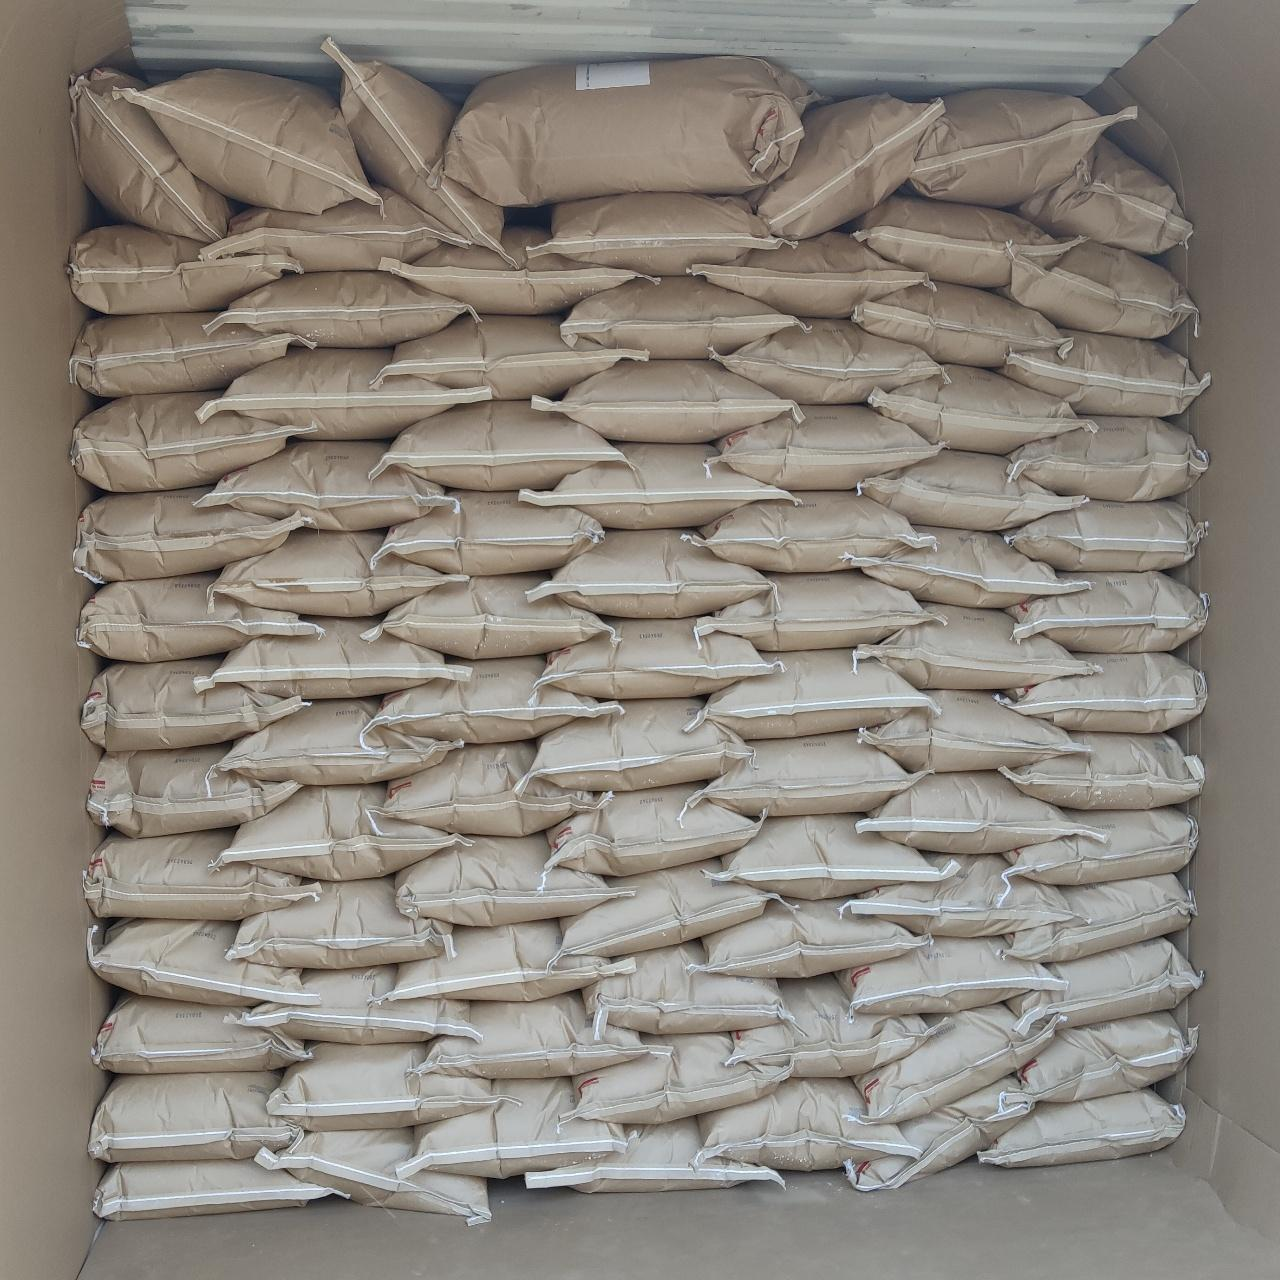sack: (442, 57, 808, 204), (128, 70, 377, 212), (328, 42, 502, 246), (72, 68, 237, 243), (753, 96, 942, 238), (196, 348, 488, 438), (908, 88, 1132, 204), (856, 1005, 1056, 1122), (216, 784, 462, 878), (552, 862, 774, 964), (522, 444, 796, 526), (377, 316, 646, 399), (382, 229, 651, 309), (254, 1130, 488, 1223), (74, 488, 304, 580), (72, 392, 292, 488), (195, 618, 459, 697), (370, 658, 620, 742), (79, 574, 318, 662), (202, 442, 450, 526), (406, 1080, 626, 1175), (728, 976, 934, 1076), (535, 360, 796, 438), (84, 830, 318, 918), (380, 744, 606, 835), (216, 532, 464, 614), (84, 658, 304, 750), (564, 1034, 788, 1124), (377, 402, 617, 486), (399, 835, 618, 926), (1017, 138, 1190, 254), (220, 697, 456, 782), (202, 192, 458, 270), (368, 574, 610, 656), (855, 195, 1070, 286), (847, 1082, 1030, 1190), (530, 700, 748, 790), (690, 234, 930, 316), (72, 312, 304, 396), (538, 196, 787, 274), (702, 651, 924, 738), (546, 784, 758, 876), (230, 878, 450, 966), (418, 994, 646, 1078), (714, 816, 954, 896), (856, 606, 1096, 686), (870, 366, 1090, 452), (270, 1042, 496, 1126), (210, 272, 468, 346), (90, 744, 298, 836), (88, 920, 309, 1006), (70, 226, 297, 309), (714, 320, 942, 402), (696, 1080, 910, 1167), (564, 278, 802, 356), (388, 920, 629, 998), (538, 532, 765, 614), (234, 966, 478, 1042), (377, 492, 600, 574), (852, 527, 1084, 606), (696, 731, 918, 813), (90, 1073, 302, 1158), (542, 620, 776, 697), (860, 772, 1088, 852), (586, 942, 788, 1032), (842, 856, 1070, 934), (714, 406, 934, 486), (852, 282, 1065, 366), (1005, 241, 1196, 334), (696, 492, 918, 572), (527, 1121, 782, 1190), (696, 572, 926, 648), (860, 692, 1082, 770), (1010, 934, 1200, 1026), (858, 450, 1084, 526), (1002, 331, 1208, 414), (696, 900, 926, 974), (1002, 874, 1194, 962), (94, 992, 308, 1070), (842, 938, 1062, 1014), (1008, 416, 1206, 501), (1017, 1010, 1196, 1102), (1000, 654, 1206, 731), (982, 1090, 1182, 1166), (1010, 574, 1206, 652), (96, 1160, 342, 1220), (1000, 734, 1201, 806), (1005, 808, 1196, 884), (1006, 501, 1206, 570)
